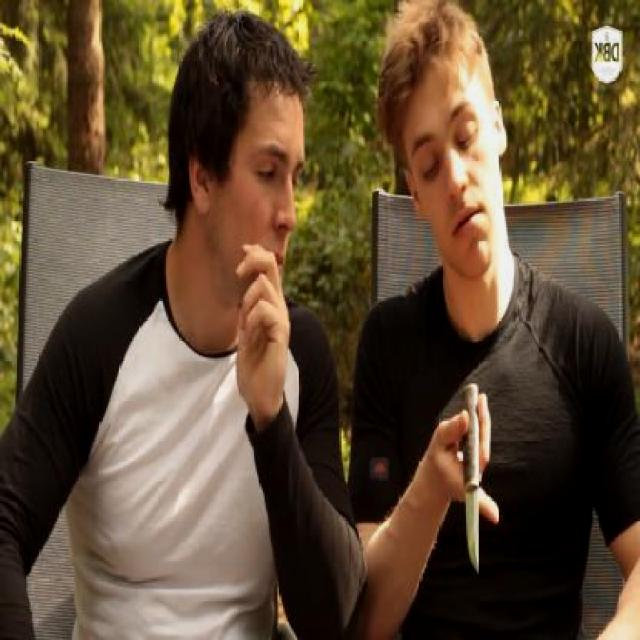knife: (442, 371, 503, 589)
